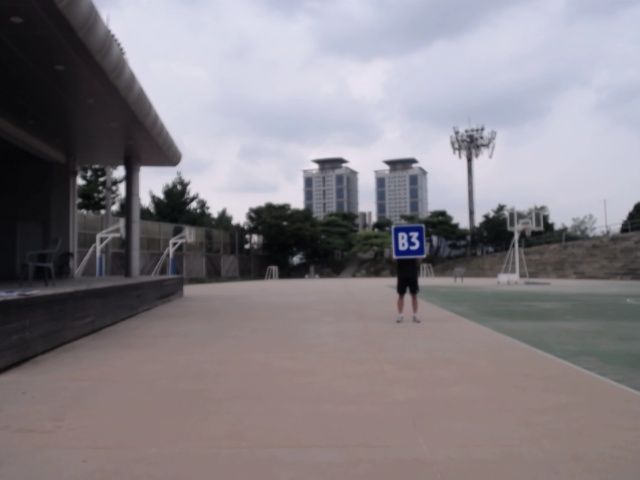delivery_b3: (391, 224, 426, 259)
